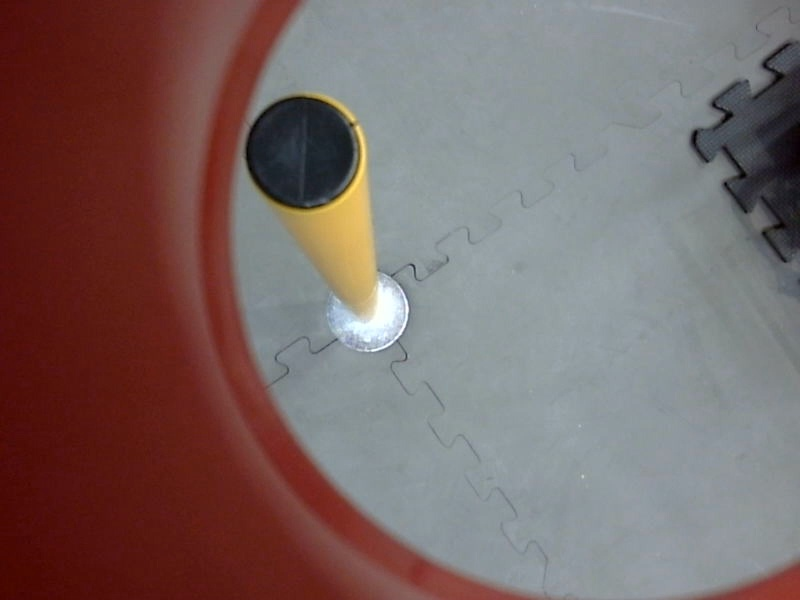tip: (240, 89, 365, 213)
